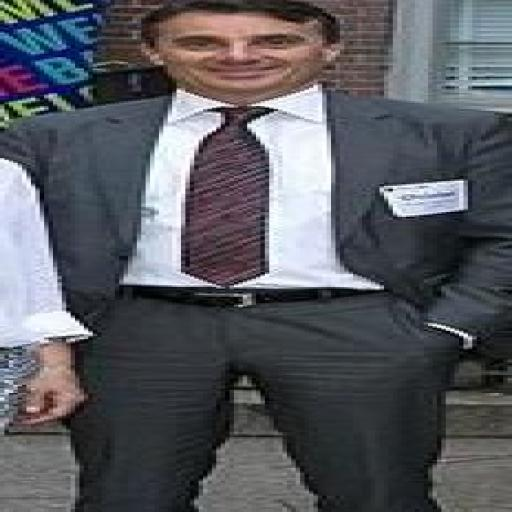person: (0, 0, 511, 511), (0, 160, 88, 428)
